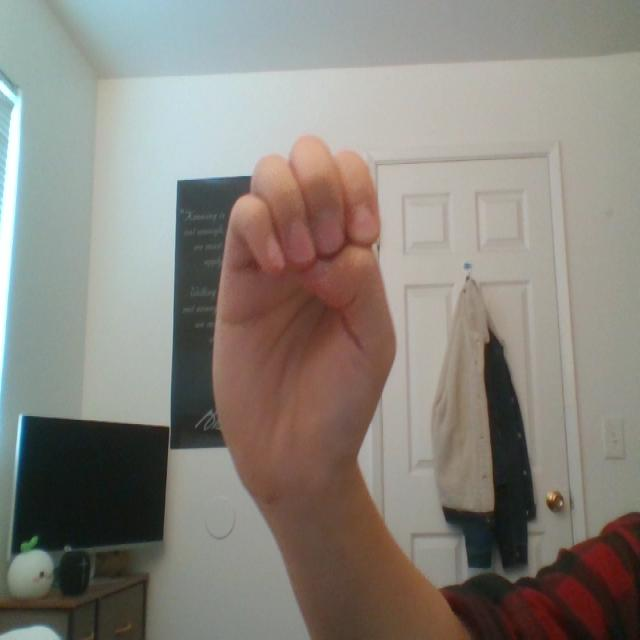E: (204, 107, 455, 539)
